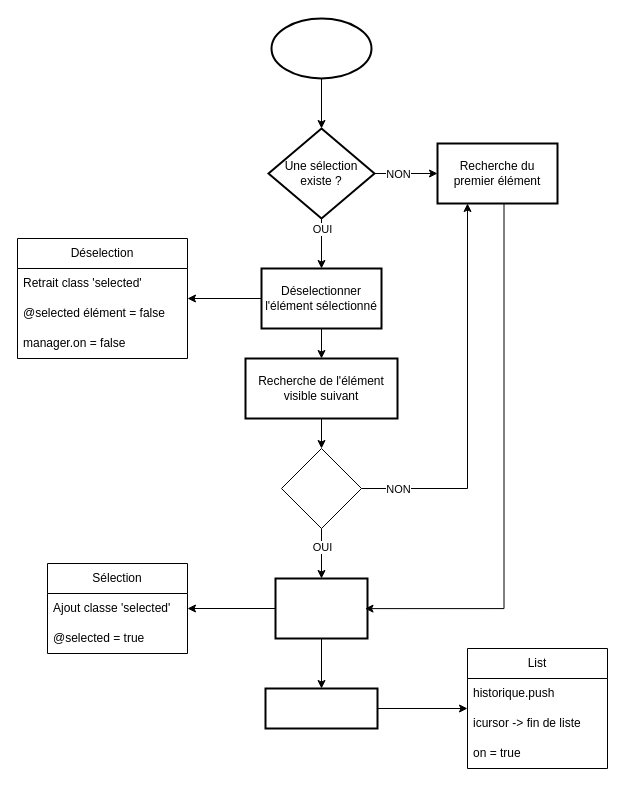
This 625x786 diagram has some shape labels left out. Here are the shapes that lost their labels. From the top down, the centre of each, then its label:
point 321,48: Touche "j"
point 321,488: Il existe ?
point 321,608: Sélection de l'élément
point 321,708: Ajout à l'historique de sélection
